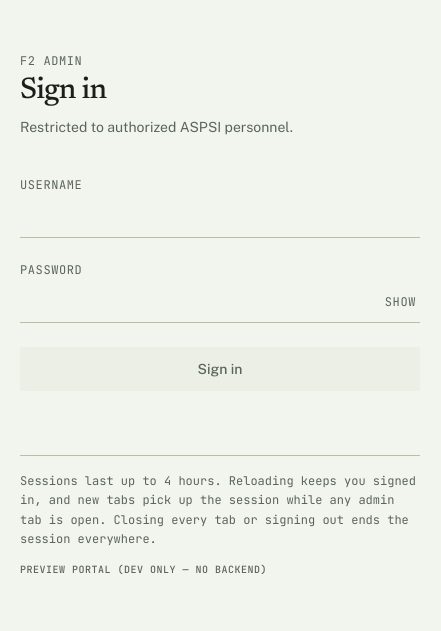
Test case: <Login /> › surfaces a typed error message on E_AUTH_INVALID
In the field labelled "Username": point(220, 217) [20, 196, 420, 238], type "alice"
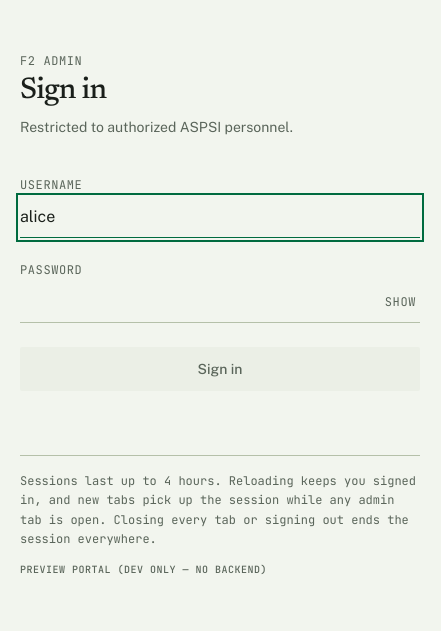
In the password field labelled "Password": point(220, 302) [20, 282, 420, 322], type "wrong"
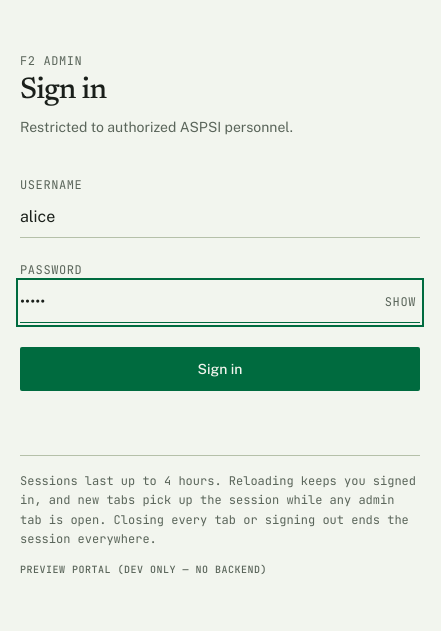
Click the button "Sign in": point(220, 368) [20, 346, 420, 390]
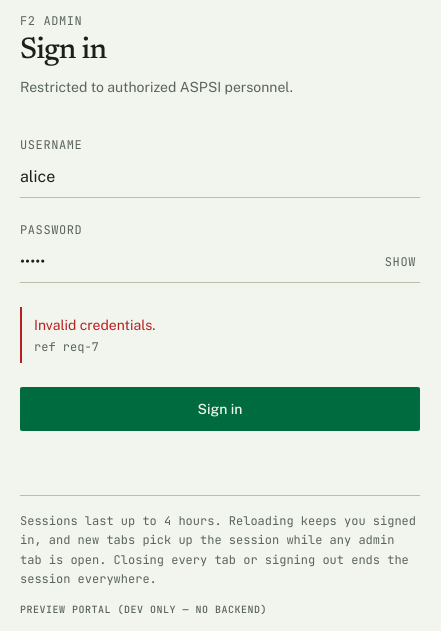
expect the message shows "Invalid credentials": met, box [34, 316, 156, 332]
expect the text "ref req-7" is shown: met, box [34, 338, 99, 354]
